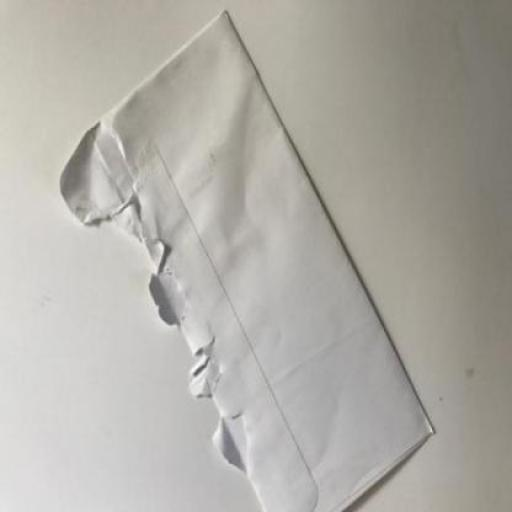paper: (60, 10, 436, 511)
